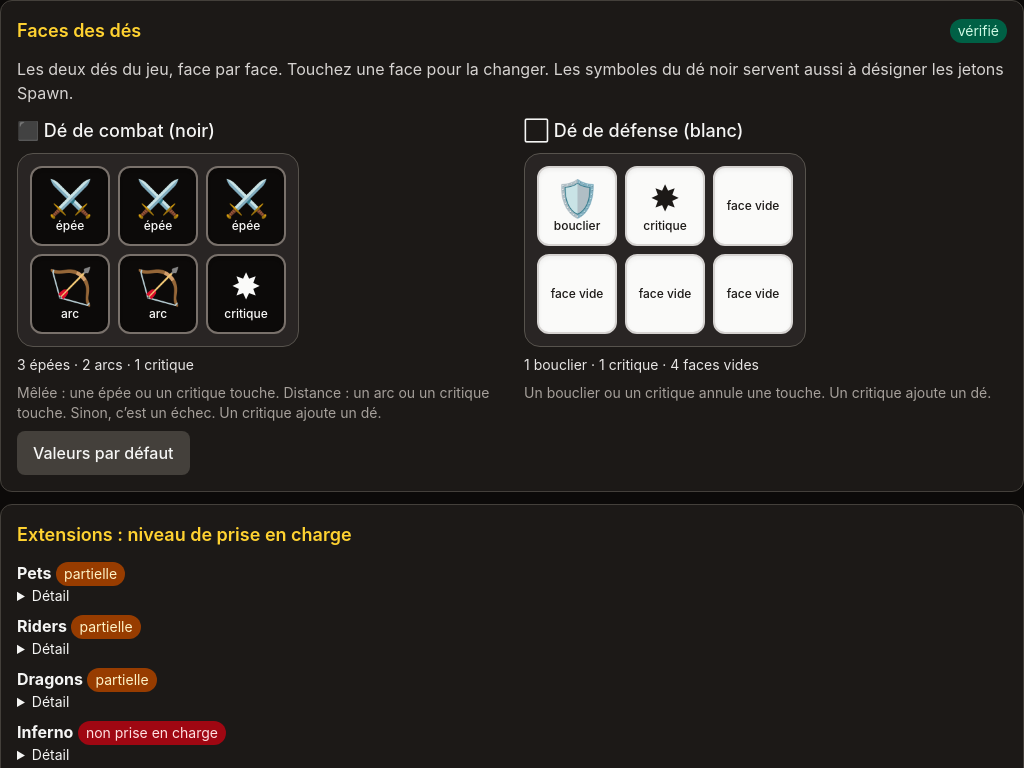
Test: paramètres : les dés sont dessinés › toucher une face du dé blanc : bouclier, critique, face vide, puis de nouveau bouclier
This screenshot has width=1024, height=768.
Step 1. Click the button with test id "white-face-1" → (577, 206), box [537,166,617,246]
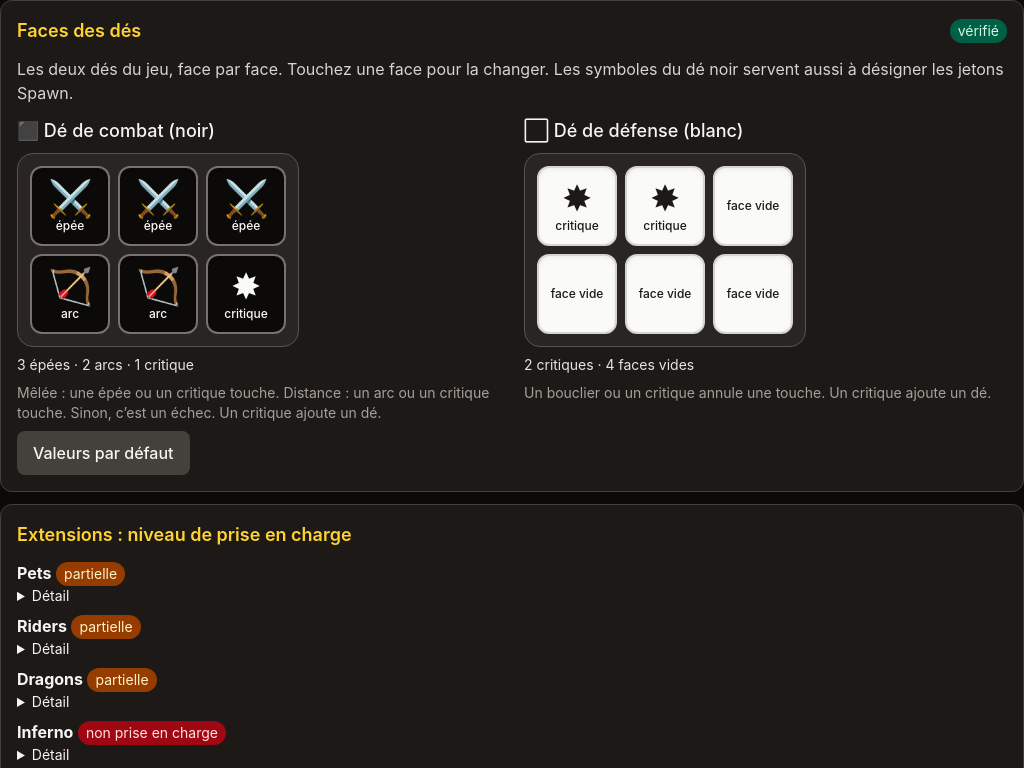
Step 2. Click the button with test id "white-face-1" → (577, 206), box [537,166,617,246]
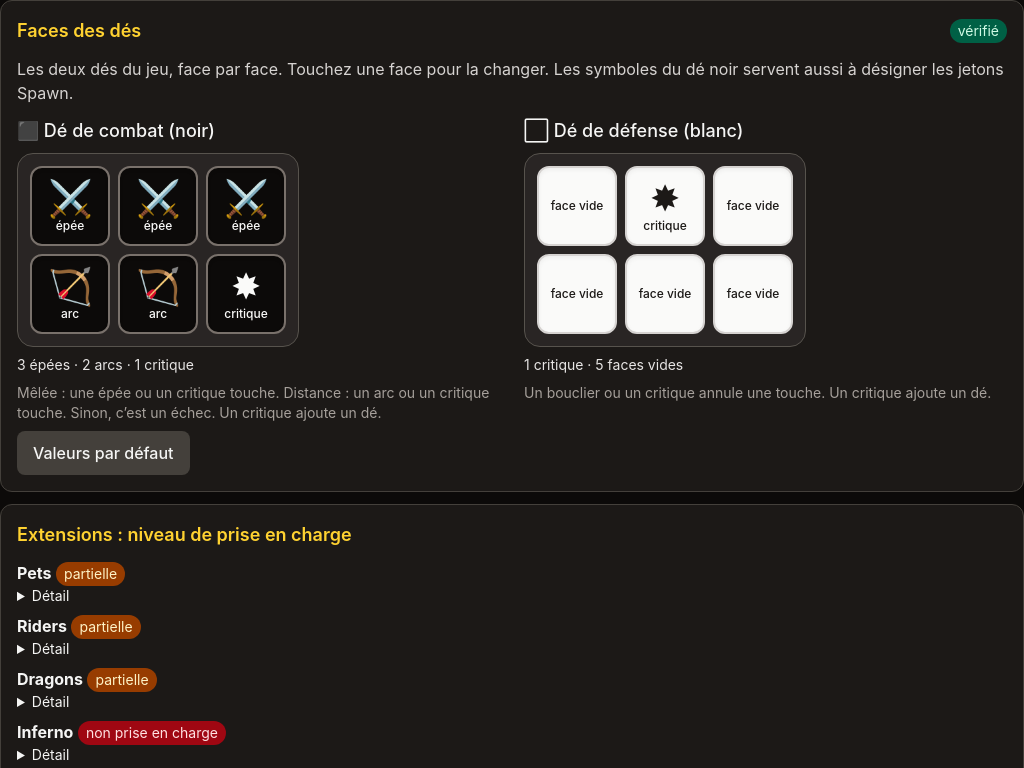
Step 3. Click the button with test id "white-face-1" → (577, 206), box [537,166,617,246]
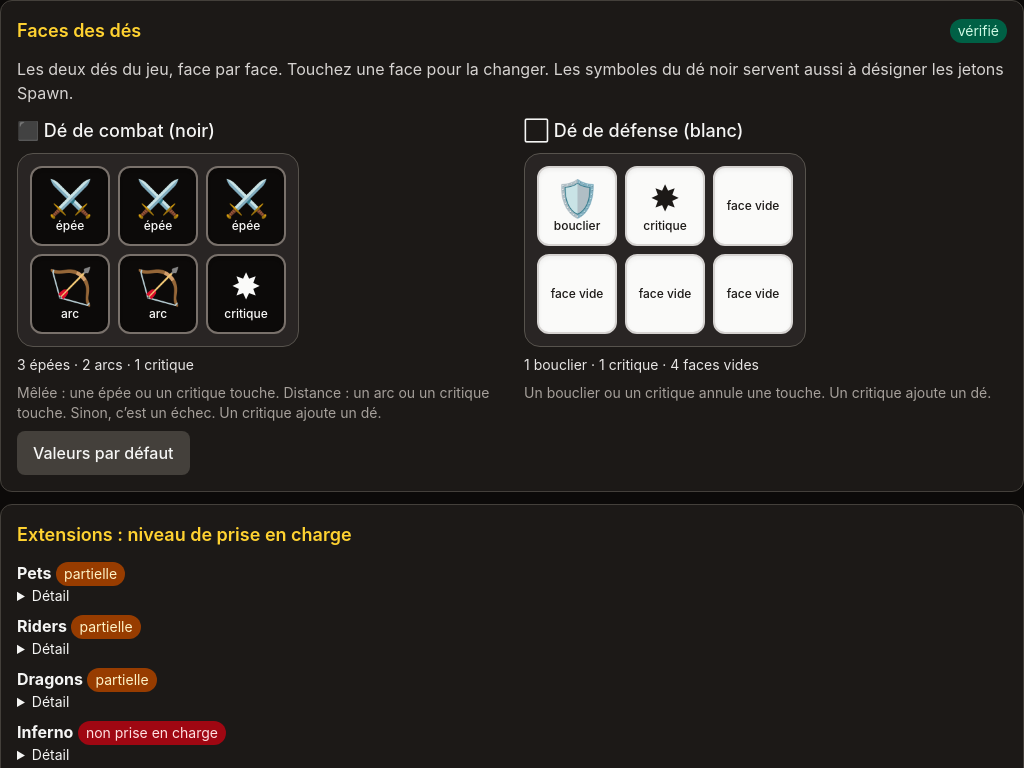
Expected: the text with test id "white-summary" reads "1 bouclier · 1 critique · 4 faces vides", [524,356,759,373]
